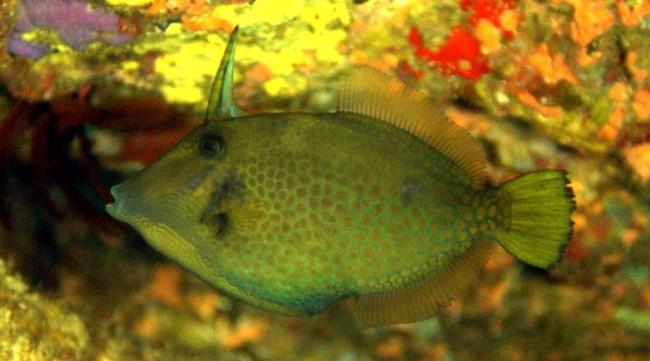fish: (108, 26, 577, 326)
